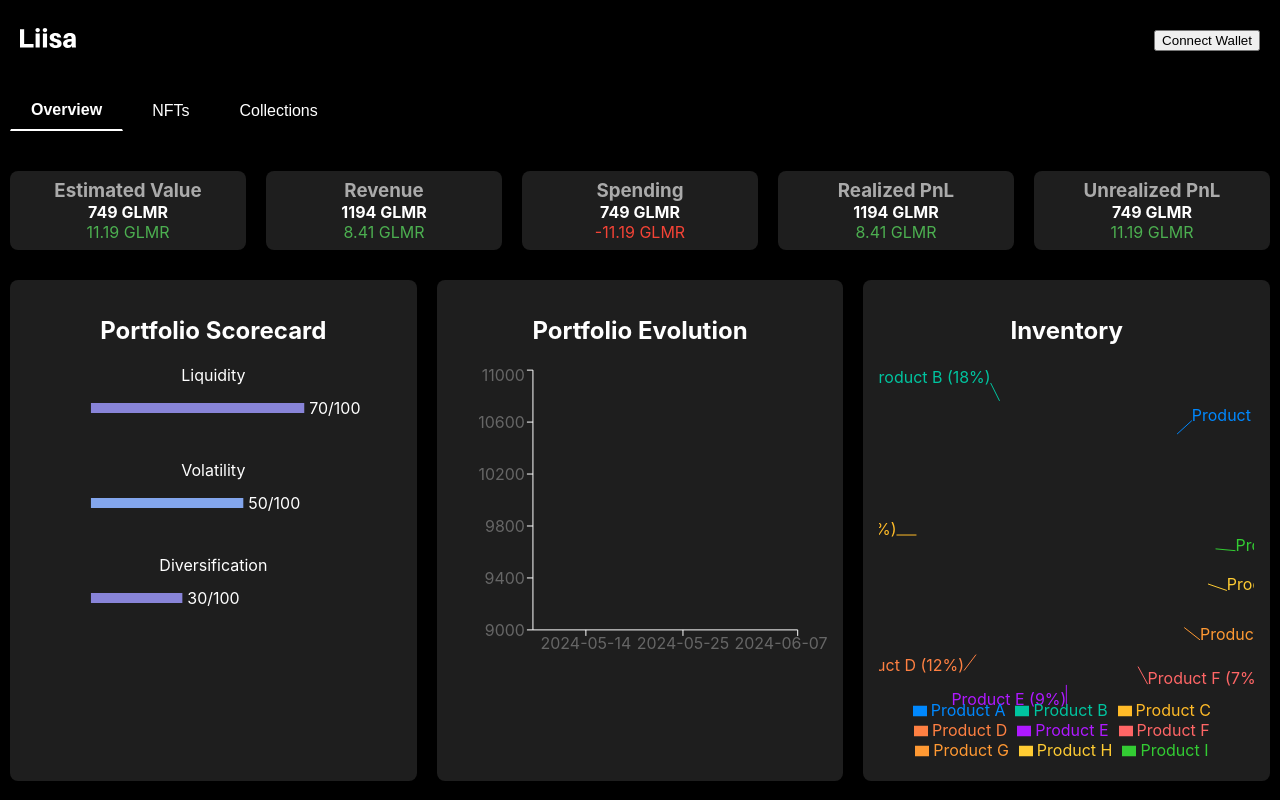
Test case: App › connects and disconnects wallet when button is clicked
Click connect wallet button
What coordinates should you click on to do the following:
click the button "Connect Wallet"
I would click on:
 (1207, 40)
Its box is [1154,30,1260,51].
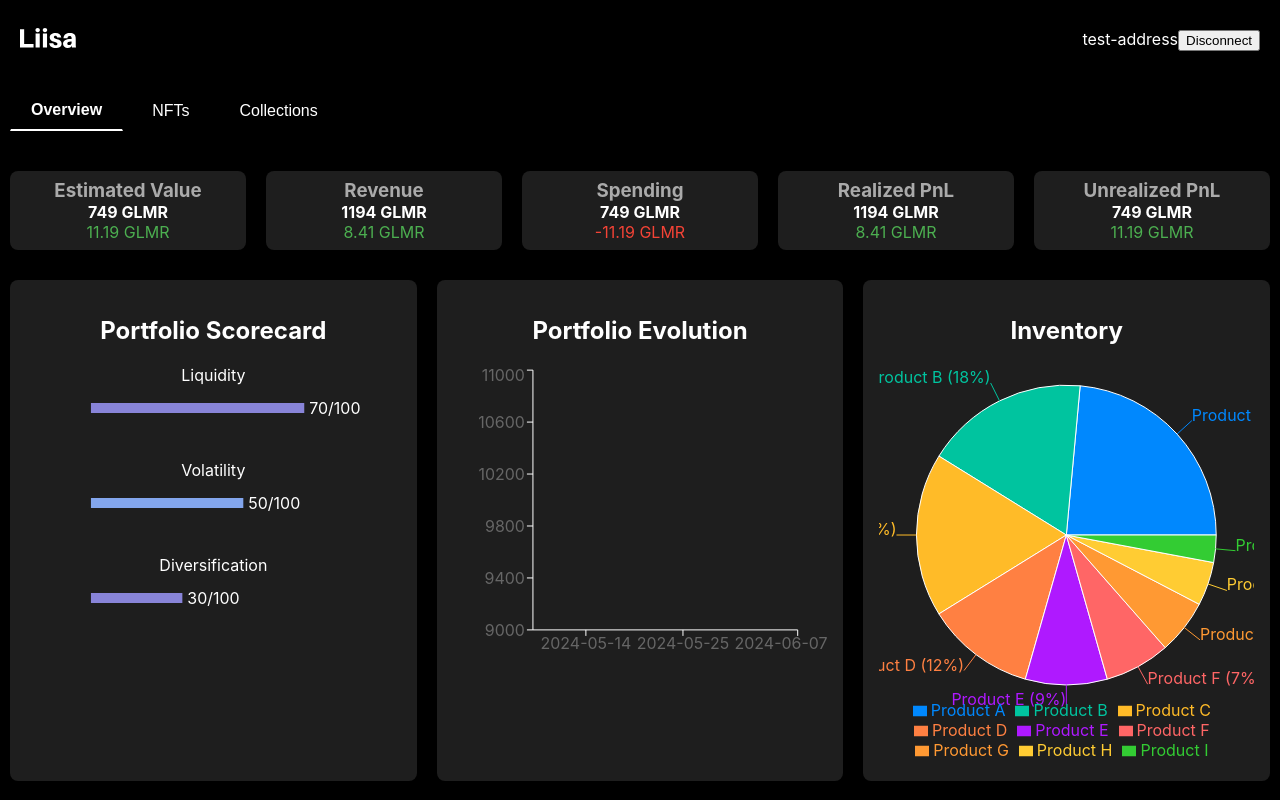
Check: the text "test-address" is shown, box [1082,29,1178,49]
Click disconnect wallet button
What coordinates should you click on to do the following:
click the button "Disconnect"
I would click on:
 (1219, 40)
Its box is [1178,30,1260,51].
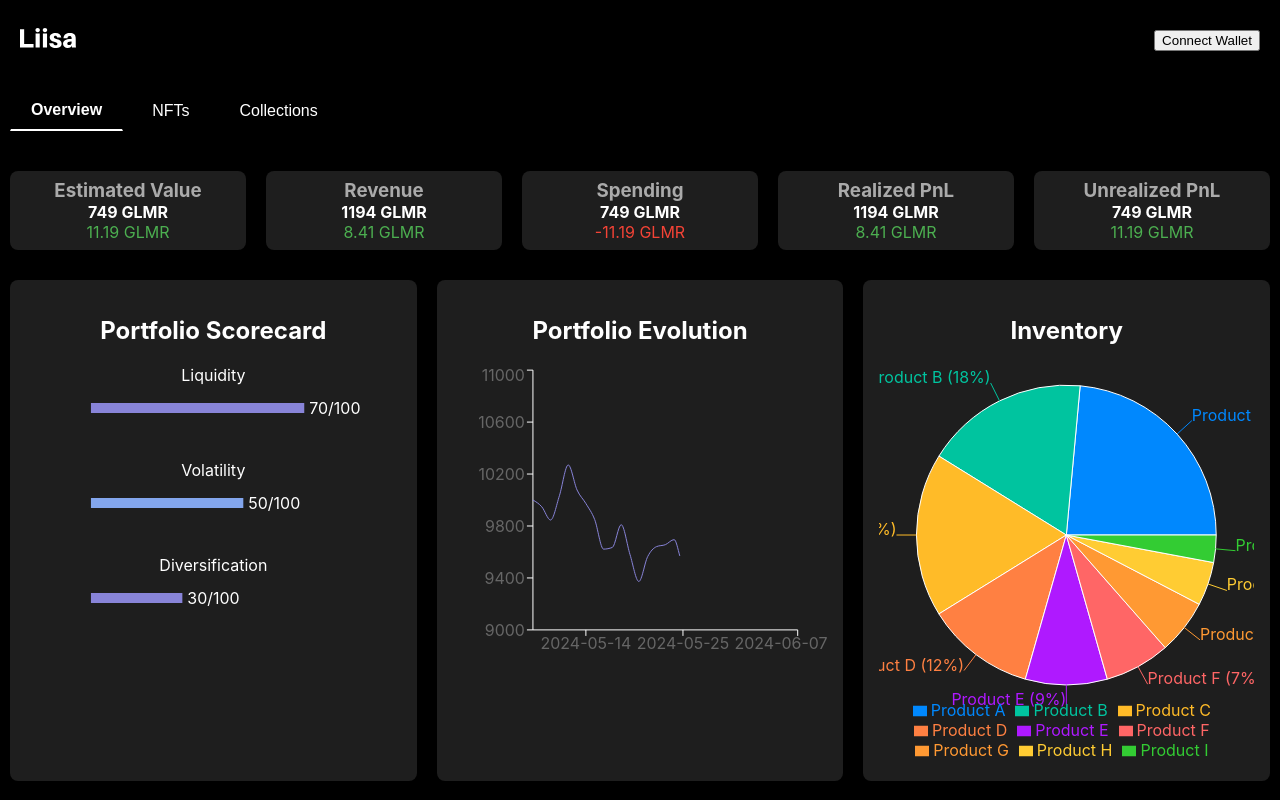
Check: the button "Disconnect" is gone
